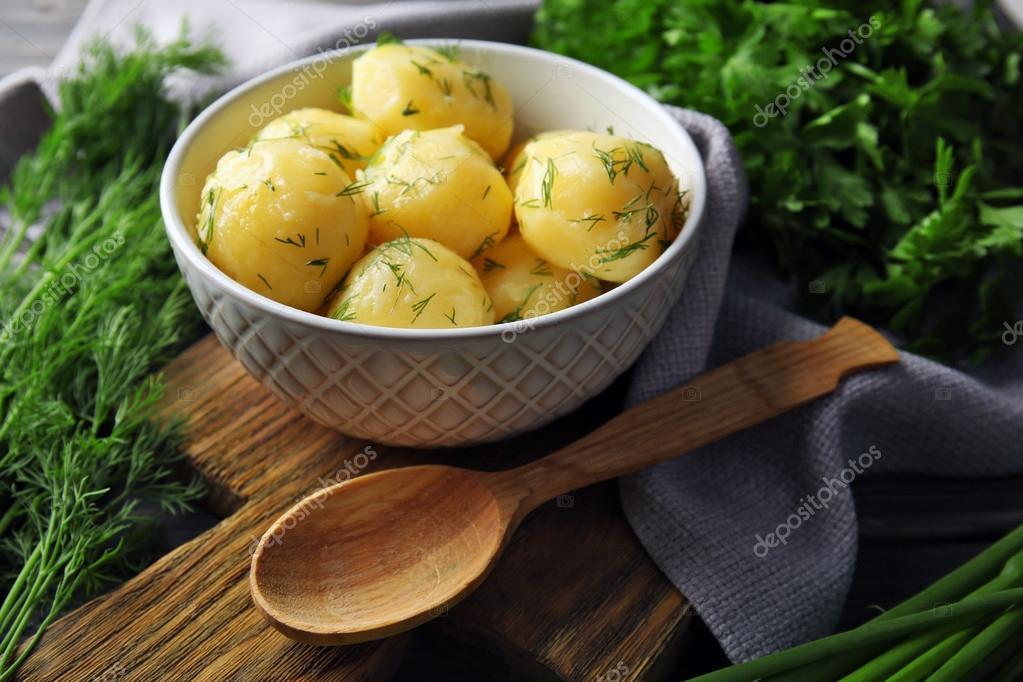boiled potatoes: (245, 110, 632, 279)
